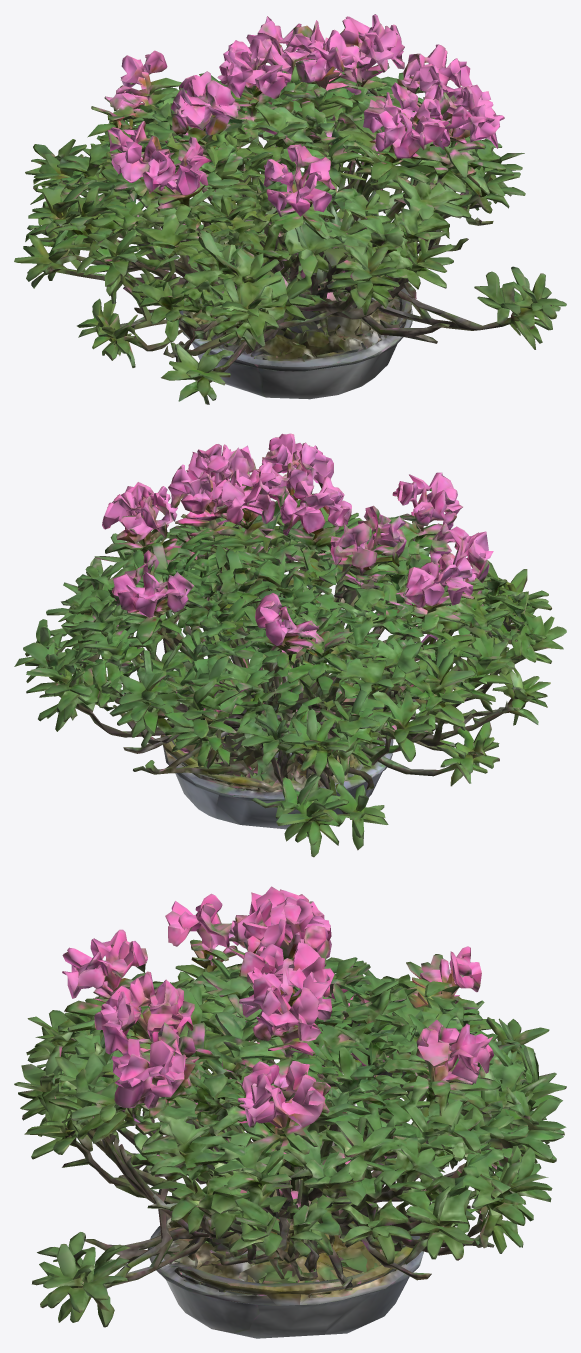
The model's file is rhododendron-01-web.glb.
3 views of the same model, one above another, from view 1: azimuth 30°, elevation 25°; view 2: azimuth 150°, elevation 25°; view 3: azimuth 270°, elevation 25° (orthographic). The views are drawn at different scales.
Parts seen in each view (by area): view 1: geometry_0; view 2: geometry_0; view 3: geometry_0.
Boxes of the visible parts, box(x1,y1,x2,y2) form: geometry_0: box(14, 14, 566, 404); geometry_0: box(14, 433, 566, 857); geometry_0: box(14, 886, 566, 1338).
Size of the model in its own units: 0.45 by 0.3278 by 0.4431.
1 material, 1 textured.
